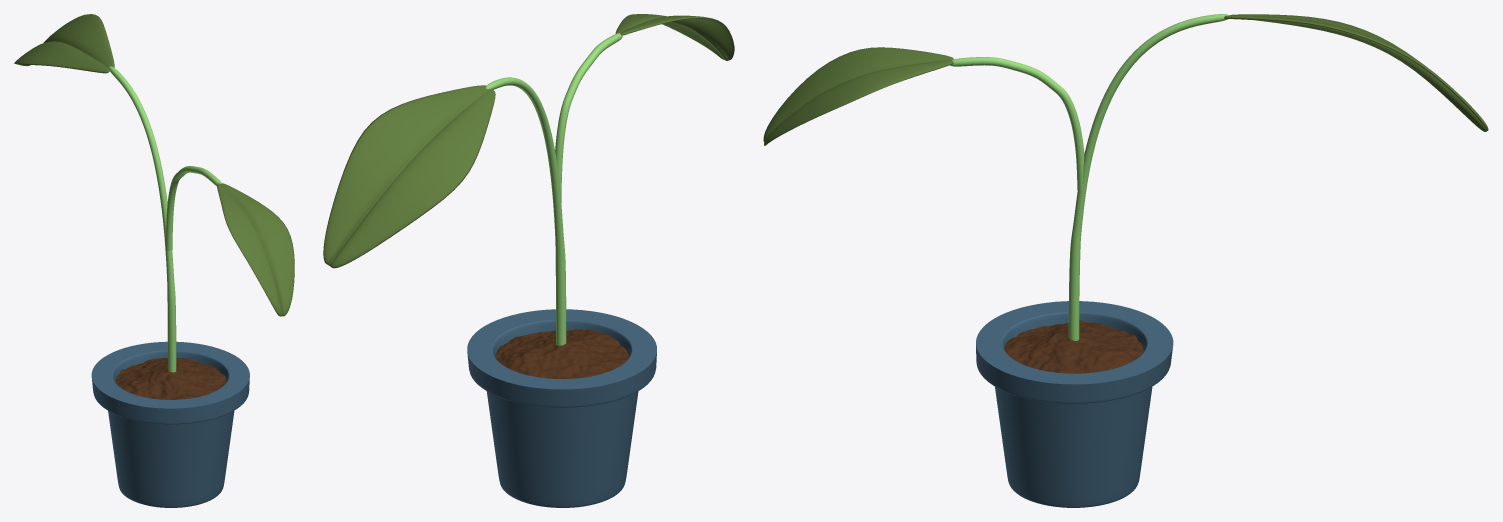
File: plant02.fbx
The picture shows the model from 3 angles, left to right: view 1: azimuth 30°, elevation 25°; view 2: azimuth 150°, elevation 25°; view 3: azimuth 270°, elevation 25°; orthographic projection. The views are drawn at different scales.
Visible parts, largest first — view 1: pot, Leaf02, Leaf01, earth, stem; view 2: pot, Leaf01, earth, stem, Leaf02; view 3: pot, Leaf02, stem, earth, Leaf01.
Boxes of the visible parts, bbox=[...] form: pot: bbox=[91, 341, 249, 507]; Leaf02: bbox=[217, 183, 294, 316]; Leaf01: bbox=[14, 14, 114, 73]; earth: bbox=[115, 358, 226, 399]; stem: bbox=[108, 66, 221, 372]; pot: bbox=[467, 309, 656, 507]; Leaf01: bbox=[323, 85, 495, 268]; earth: bbox=[495, 329, 628, 378]; stem: bbox=[486, 33, 622, 345]; Leaf02: bbox=[615, 14, 734, 60]; pot: bbox=[976, 301, 1173, 507]; Leaf02: bbox=[763, 47, 953, 145]; stem: bbox=[950, 14, 1229, 340]; earth: bbox=[1004, 320, 1143, 373]; Leaf01: bbox=[1224, 14, 1488, 131].
Bounding box in the file's own units: 318 × 845 × 1167.
